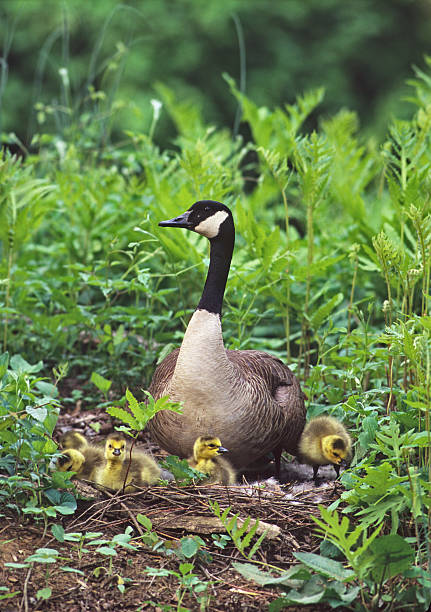goose: (143, 198, 310, 473)
